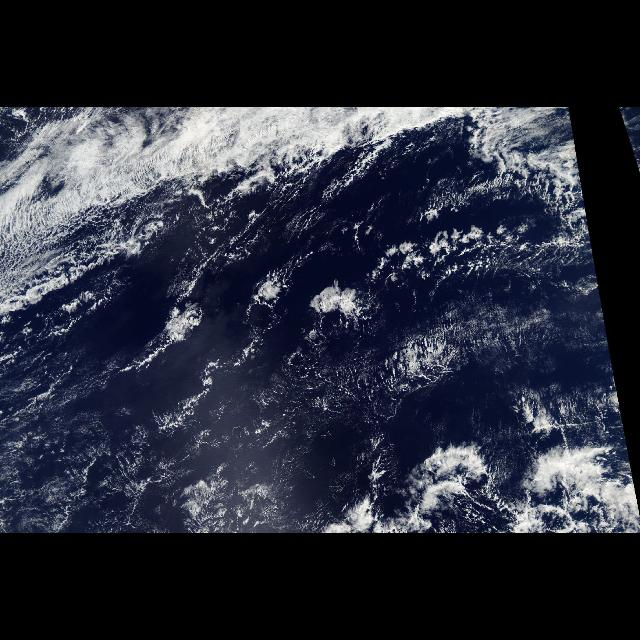Fish: (2, 158, 260, 320), (359, 167, 581, 283), (346, 302, 566, 414)
Sugar: (12, 406, 236, 532), (278, 341, 468, 417)
